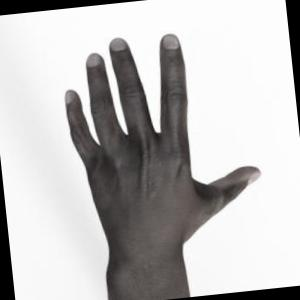paper: (65, 34, 260, 300)
